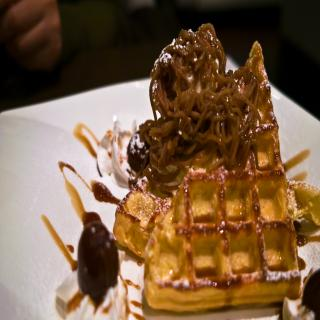Waffle: (141, 42, 303, 315), (113, 163, 320, 260)
